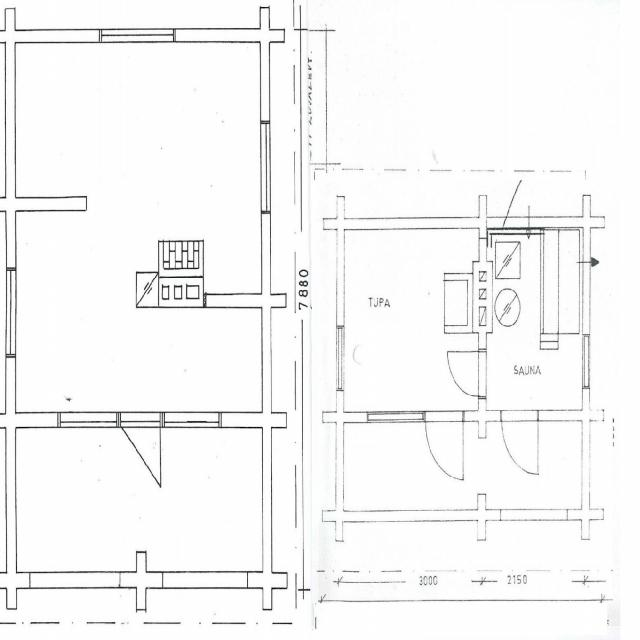door: (117, 414, 160, 493), (501, 410, 538, 477), (426, 411, 462, 476), (446, 350, 485, 398)
